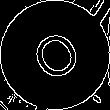O_SE: (23, 22, 87, 88)
